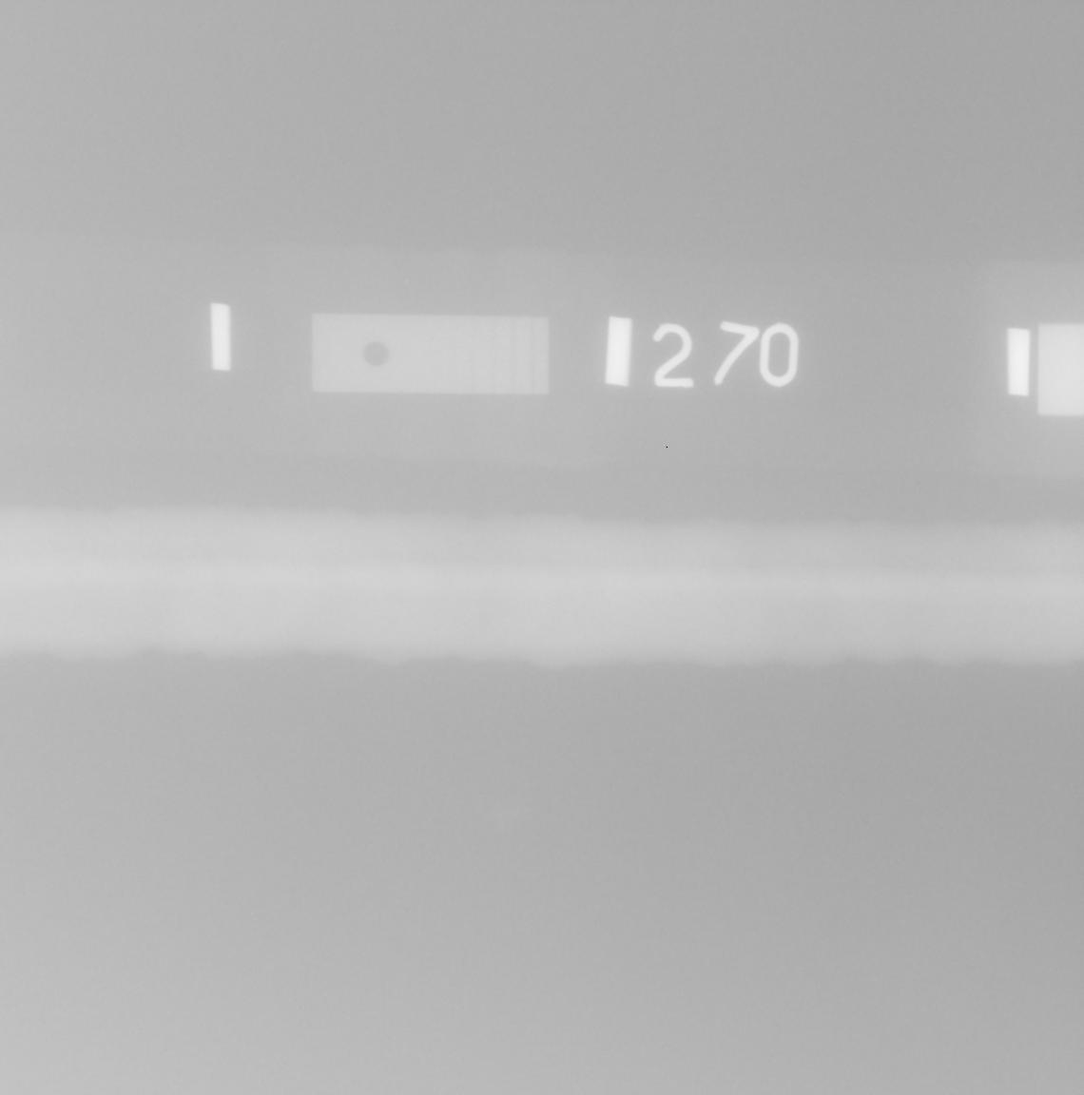Reference Standard 1: (312, 313, 551, 394)
